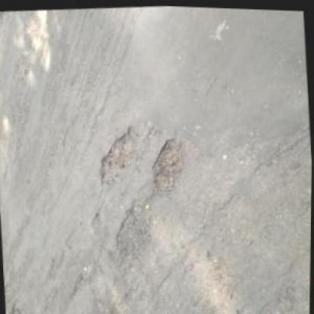Hueco: (93, 121, 143, 187), (113, 193, 156, 264), (148, 132, 192, 193)
